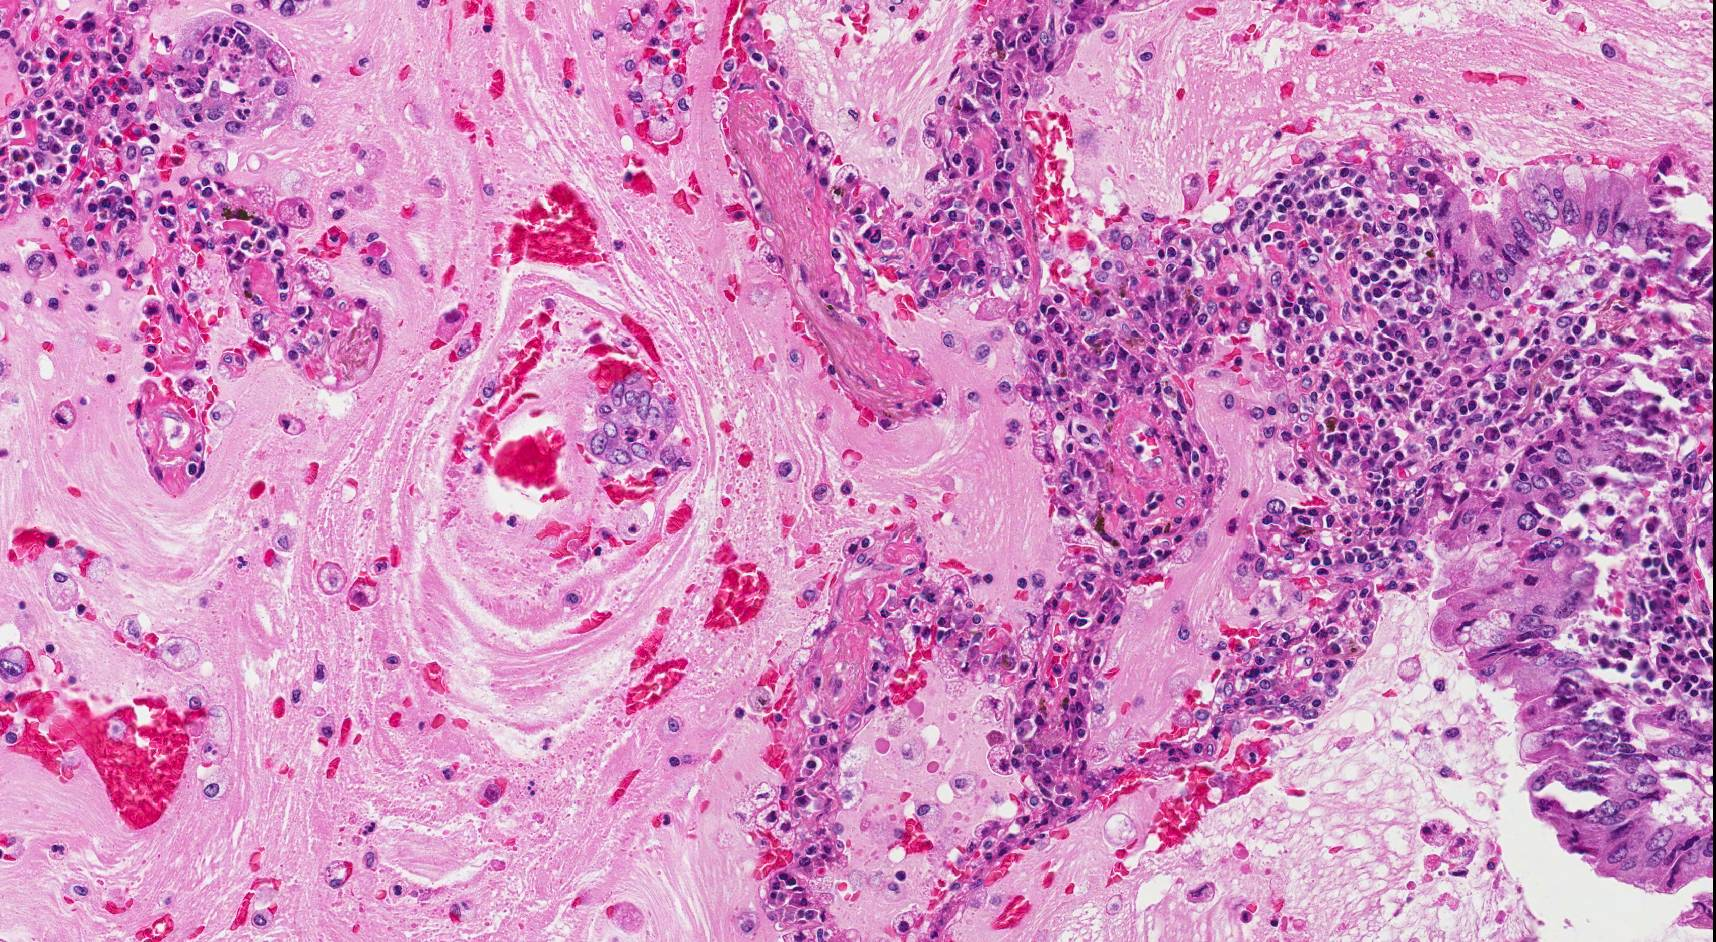stas: (584, 366, 691, 477)
